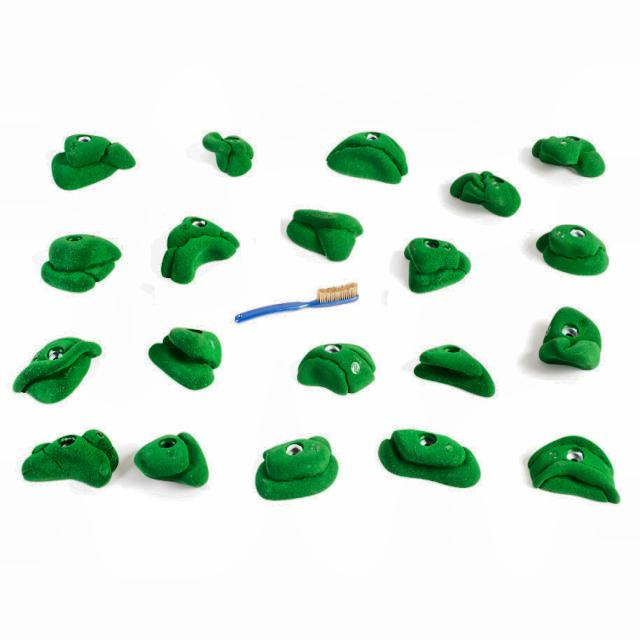Hold: (523, 424, 628, 507), (12, 318, 107, 402), (383, 421, 488, 493), (35, 223, 132, 298), (250, 429, 340, 506), (14, 426, 121, 490), (161, 208, 245, 284), (328, 119, 412, 193), (407, 338, 502, 402), (148, 321, 231, 394), (397, 225, 477, 298), (528, 297, 607, 370), (55, 124, 141, 191), (286, 199, 362, 272), (137, 428, 218, 494), (296, 339, 384, 398), (532, 219, 614, 272), (448, 162, 521, 216), (526, 130, 608, 176), (204, 132, 262, 183)
